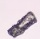microplastic: (7, 11, 38, 38)
